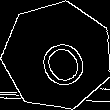O_NW: (25, 23, 89, 88)
